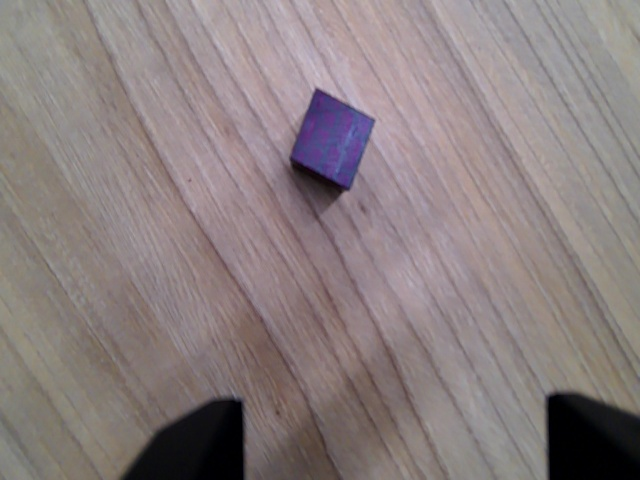brick: (293, 84, 375, 193)
